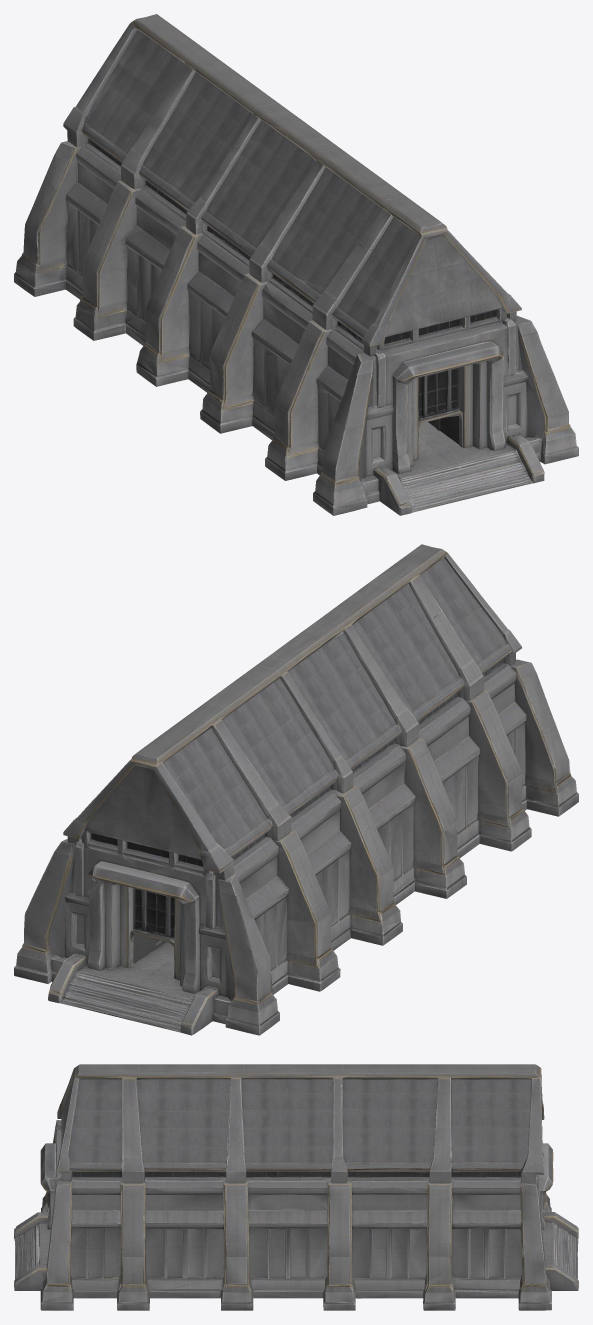
Rendered from imperial_temple_hall_of_heroes_lod1.glb.
3 renders of one model, top to bottom at view 1: azimuth 30°, elevation 25°; view 2: azimuth 150°, elevation 25°; view 3: azimuth 270°, elevation 25°, orthographic. The views are drawn at different scales.
Parts seen in each view (by area): view 1: mesh_node; view 2: mesh_node; view 3: mesh_node.
Boxes of the visible parts, x1=… form: mesh_node: x1=14, y1=14, x2=578, y2=515; mesh_node: x1=14, y1=544, x2=578, y2=1035; mesh_node: x1=14, y1=1064, x2=578, y2=1310.
Bounding box in the file's own units: 19.15 × 18.04 × 47.41.
Materials: 1 (1 with a texture image).
